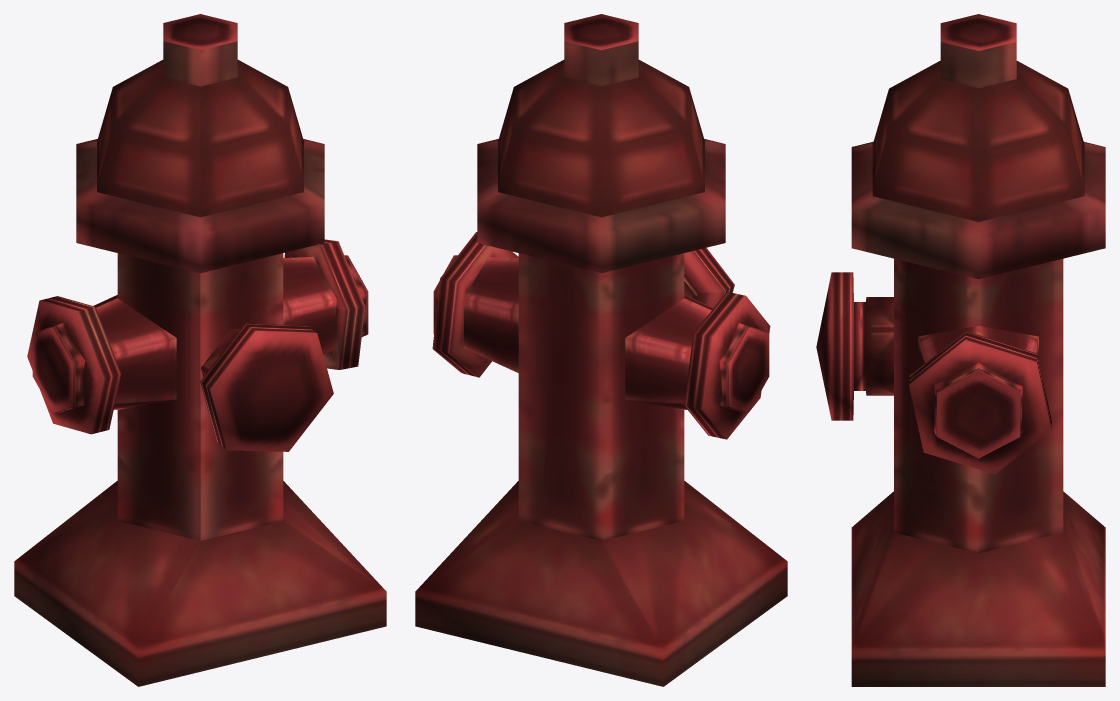
The model's file is Hydrant.fbx.
3 views of the same model, side by side, from view 1: azimuth 30°, elevation 25°; view 2: azimuth 150°, elevation 25°; view 3: azimuth 270°, elevation 25° (orthographic). The views are drawn at different scales.
Visible parts, largest first — view 1: Hydrant; view 2: Hydrant; view 3: Hydrant.
Boxes of the visible parts, left/top/right/bottom form: Hydrant: left=14, top=14, right=386, bottom=686; Hydrant: left=415, top=14, right=787, bottom=686; Hydrant: left=816, top=14, right=1105, bottom=686.
Bounding box in the file's own units: 53.52 × 100 × 44.38.
